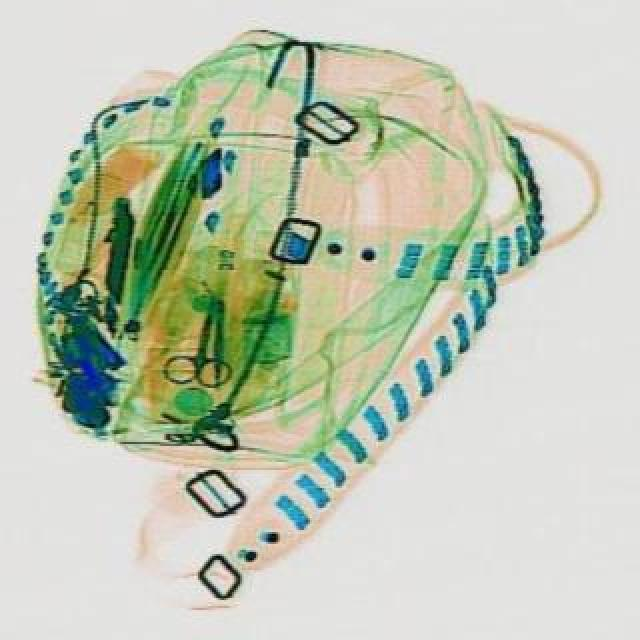pliers: (160, 306, 242, 390)
